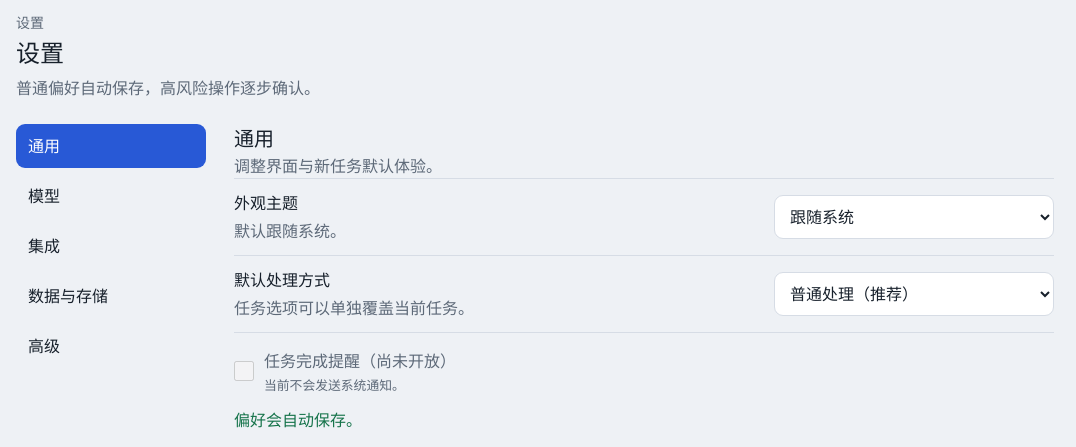
SettingsPage › auto-saves low-risk preferences with visible feedback
Select "暗色" in the dropdown labelled "外观主题 默认跟随系统。" at point(914, 217), box [774,195,1054,239]
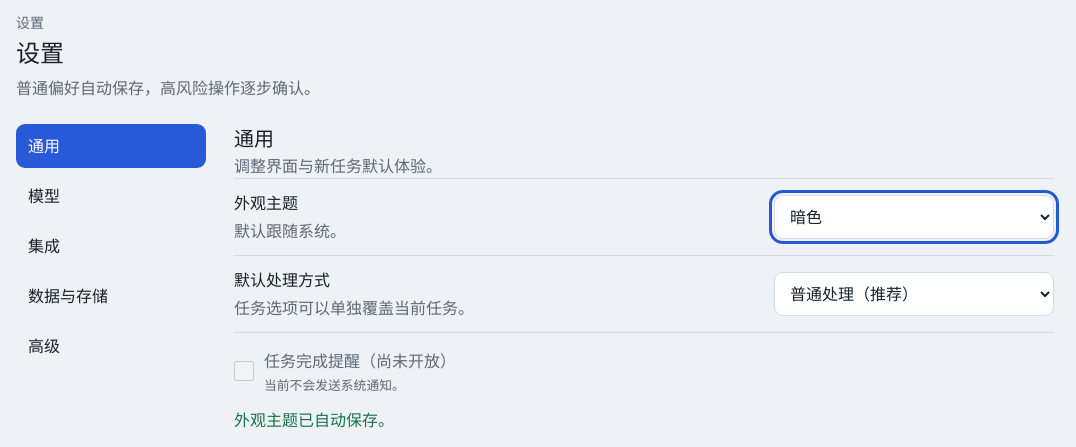
Result: the message shows "外观主题已自动保存" at [234,410,394,430]
